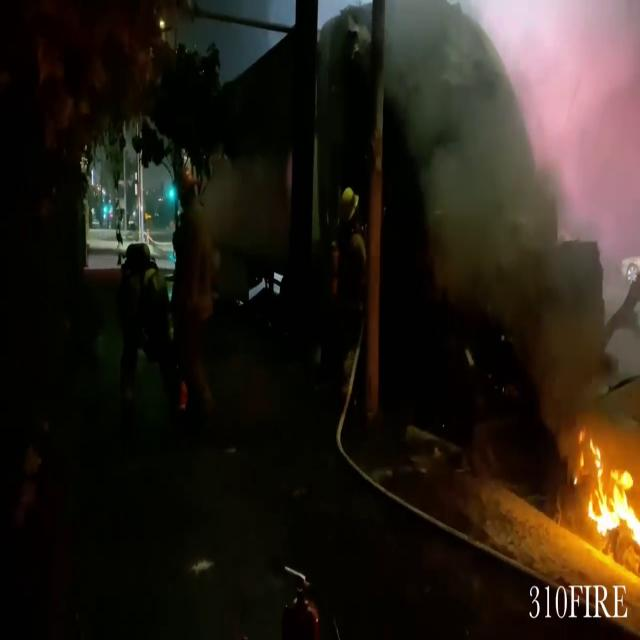Fire: (578, 434, 640, 563)
Smoke: (501, 0, 640, 270)
